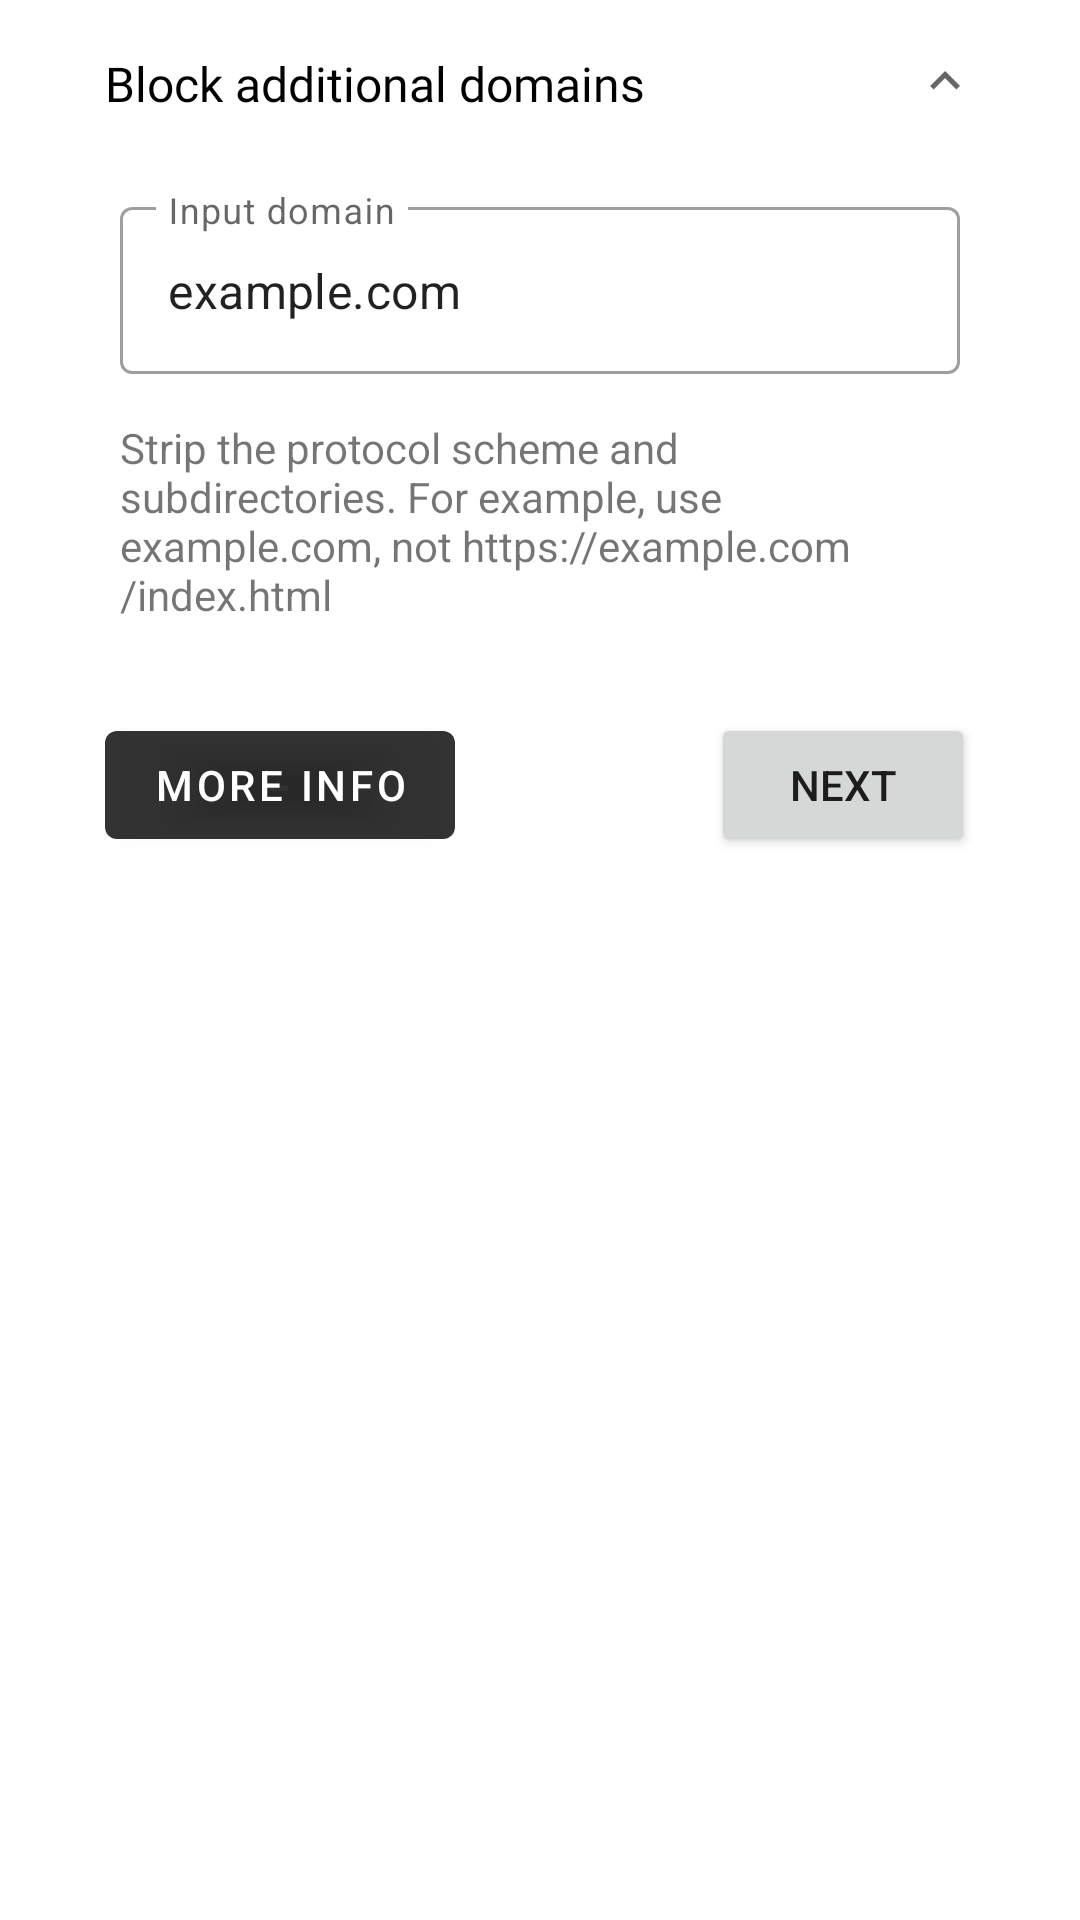

Point at icon controls on the screen. Image size 1080px x 1920px, points as (x,y).
expand less: (945,80)
